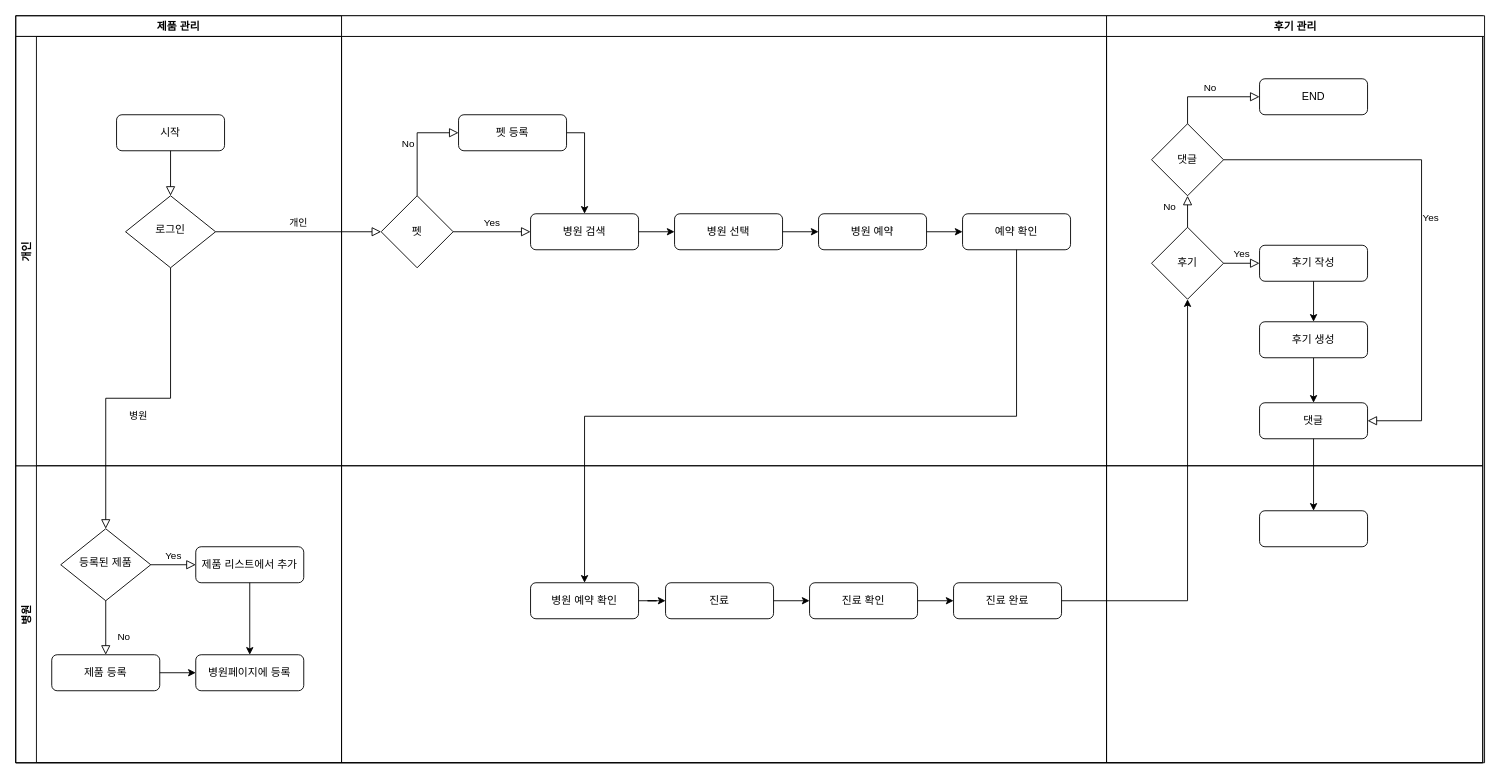
The diagram is 1500 pixels wide and 779 high, and some of its shapes have lost their labels. Each missing label, with the centre of its shape:
"예약 관리" belongs at (x=724, y=389).
"후기 확인" belongs at (x=1313, y=528).
